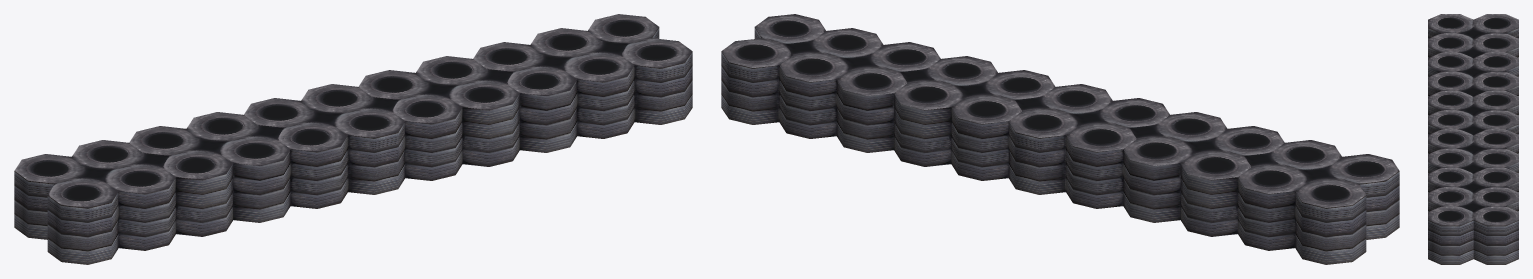
The model's file is Tyre_Wall_Low.fbx.
The picture shows the model from 3 angles, left to right: view 1: azimuth 30°, elevation 25°; view 2: azimuth 150°, elevation 25°; view 3: azimuth 270°, elevation 25°; orthographic projection. The views are drawn at different scales.
Parts seen in each view (by area): view 1: Tyres; view 2: Tyres; view 3: Tyres.
Part boxes in pixels (x1,y1,x2,y2): Tyres: [14, 14, 692, 264]; Tyres: [721, 14, 1399, 264]; Tyres: [1428, 14, 1518, 264].
Bounding box in the file's own units: 500 × 43.11 × 90.75.
